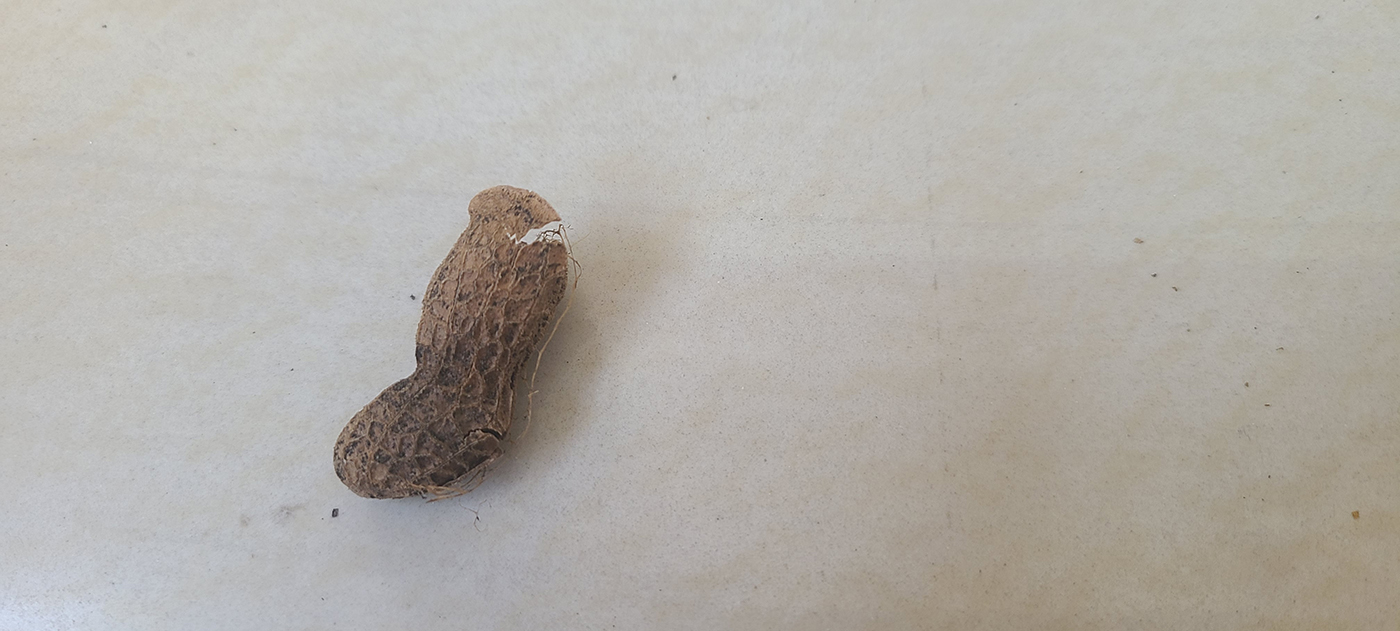l: (331, 185, 572, 502)
